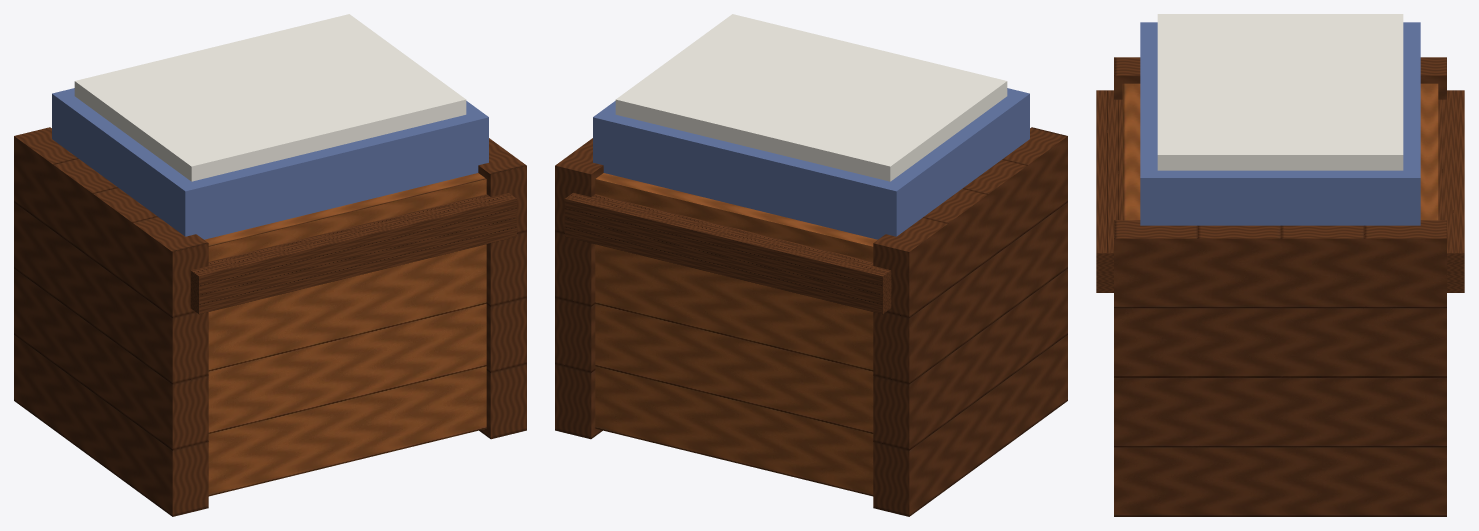
Rendered from crate_seat.glb.
The picture shows the model from 3 angles, left to right: view 1: azimuth 30°, elevation 25°; view 2: azimuth 150°, elevation 25°; view 3: azimuth 270°, elevation 25°; orthographic projection. The views are drawn at different scales.
Visible parts, largest first — view 1: crate-seat-darkwood, crate-seat-timber, crate-seat-cream, crate-seat-indigo; view 2: crate-seat-darkwood, crate-seat-timber, crate-seat-cream, crate-seat-indigo; view 3: crate-seat-darkwood, crate-seat-cream, crate-seat-indigo, crate-seat-timber.
Part boxes in pixels (x1,y1,x2,y2): crate-seat-darkwood: (14,127,526,516); crate-seat-timber: (204,173,486,496); crate-seat-cream: (74,14,466,181); crate-seat-indigo: (52,88,488,239); crate-seat-darkwood: (555,127,1067,516); crate-seat-timber: (595,173,877,496); crate-seat-cream: (615,14,1007,181); crate-seat-indigo: (593,88,1029,239); crate-seat-darkwood: (1096,57,1464,516); crate-seat-cream: (1157,14,1403,170); crate-seat-indigo: (1140,22,1420,225); crate-seat-timber: (1122,83,1438,220).
Size of the model in its own units: 0.49 by 0.43 by 0.42.
Materials: 4 (2 with a texture image).
